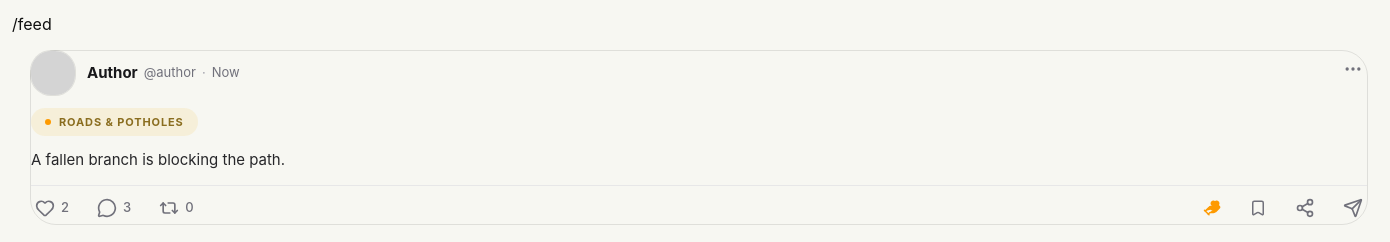
Test: feed post actions › routes signed-out engagement actions to login instead of silently doing nothing
Later steps or results of the test are not shown.
Click the button named "Like post": (52, 208) [23, 192, 81, 224]
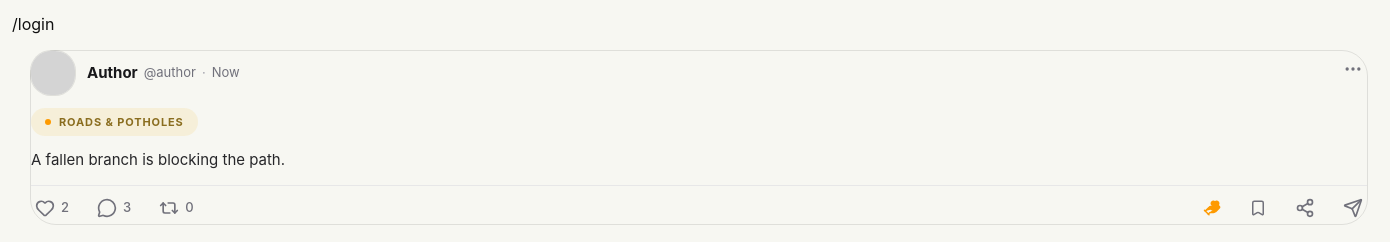
Now the text with test id "route" reads "/login", box [12, 14, 54, 34]
